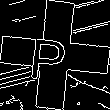P_N: (34, 28, 76, 82)
